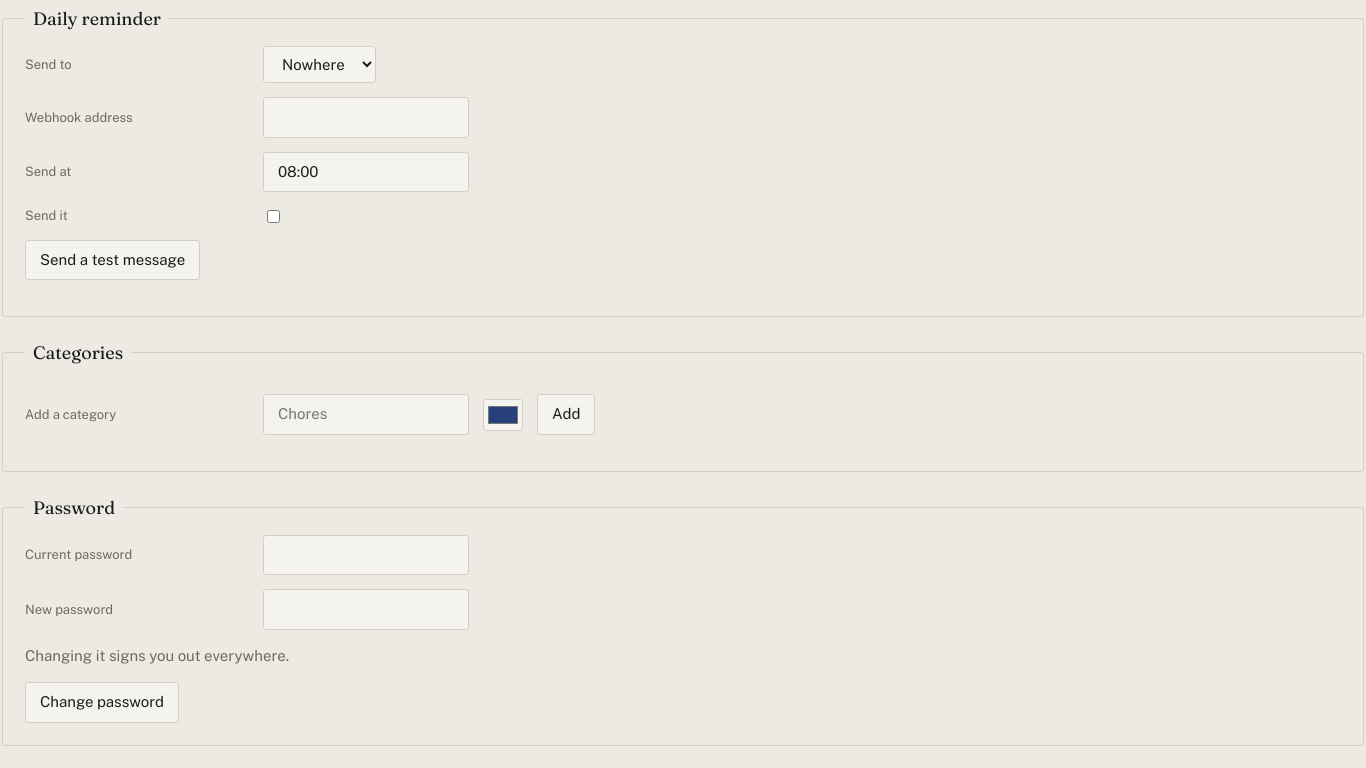
Test case: SettingsScreen › shows the API's message for a too-short password
(page scrolled)
In the password field labelled "Current password": x=366, y=555 [263, 535, 469, 575], type "admin"
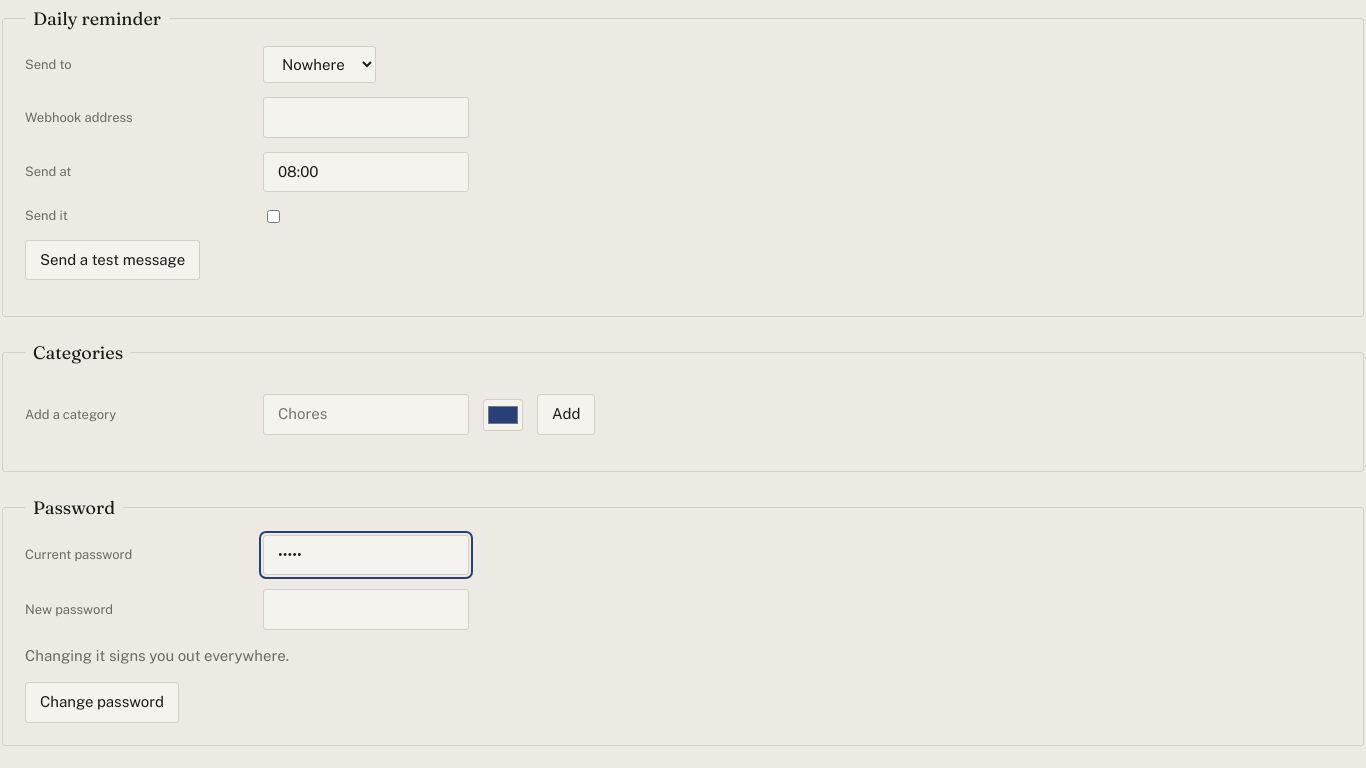
In the password field labelled "New password": x=366, y=610 [263, 589, 469, 630], type "short"
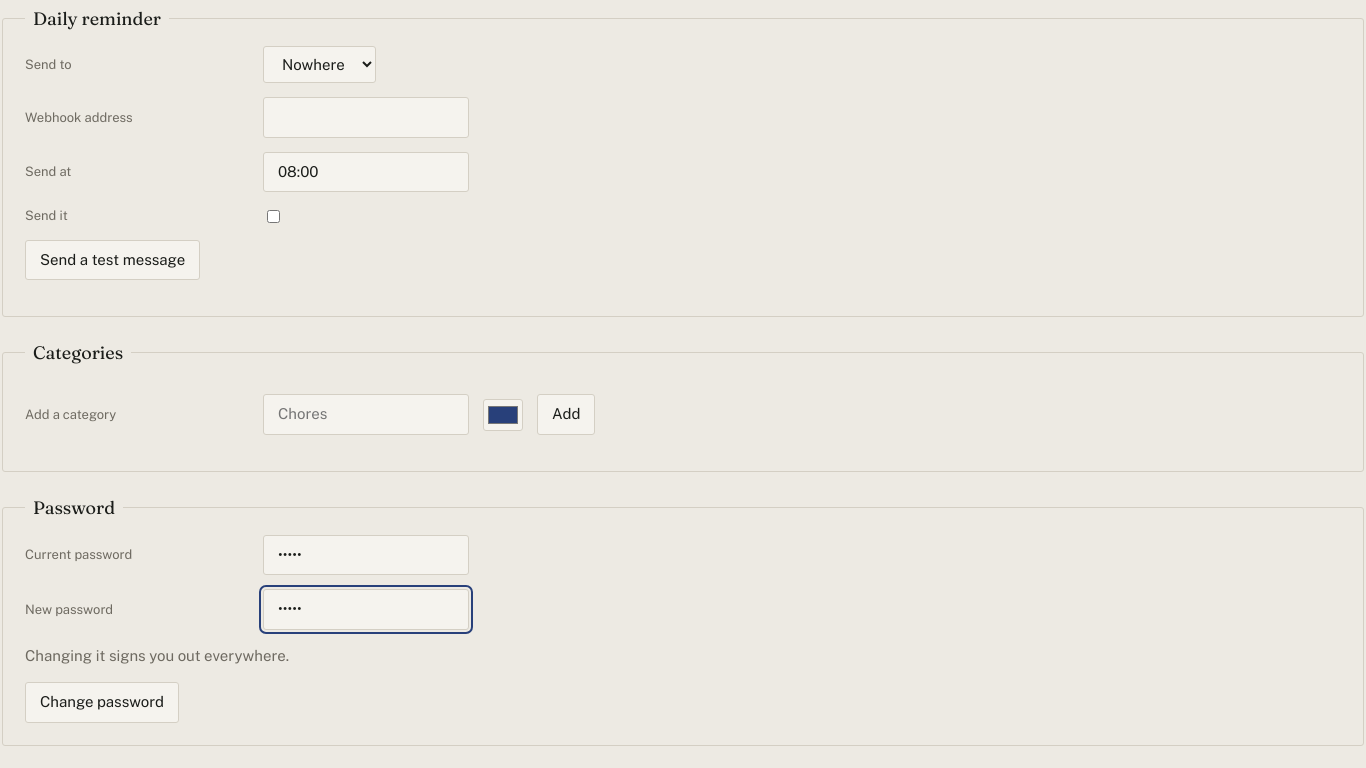
Click the button "Change password": x=102, y=703 [25, 682, 179, 723]
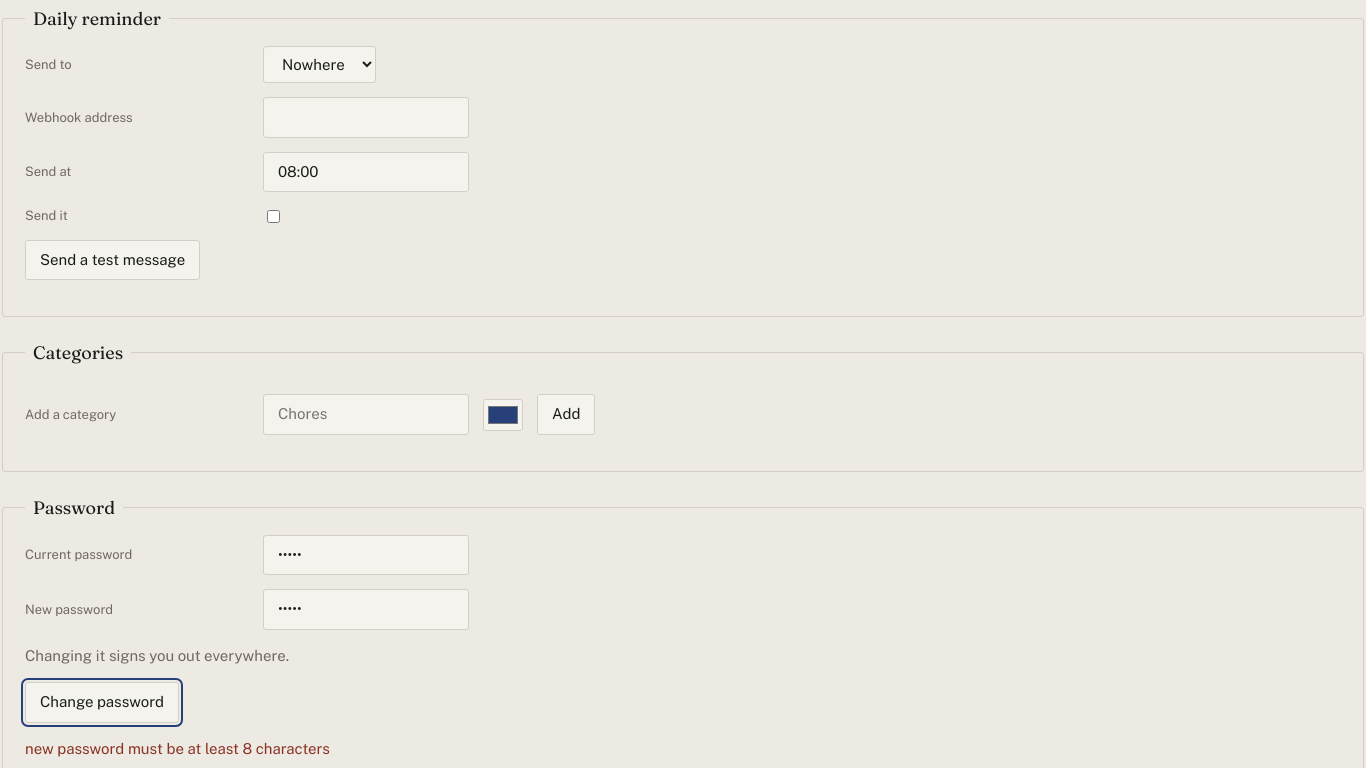
Expected: the message shows "at least 8 characters", [25, 740, 330, 757]
